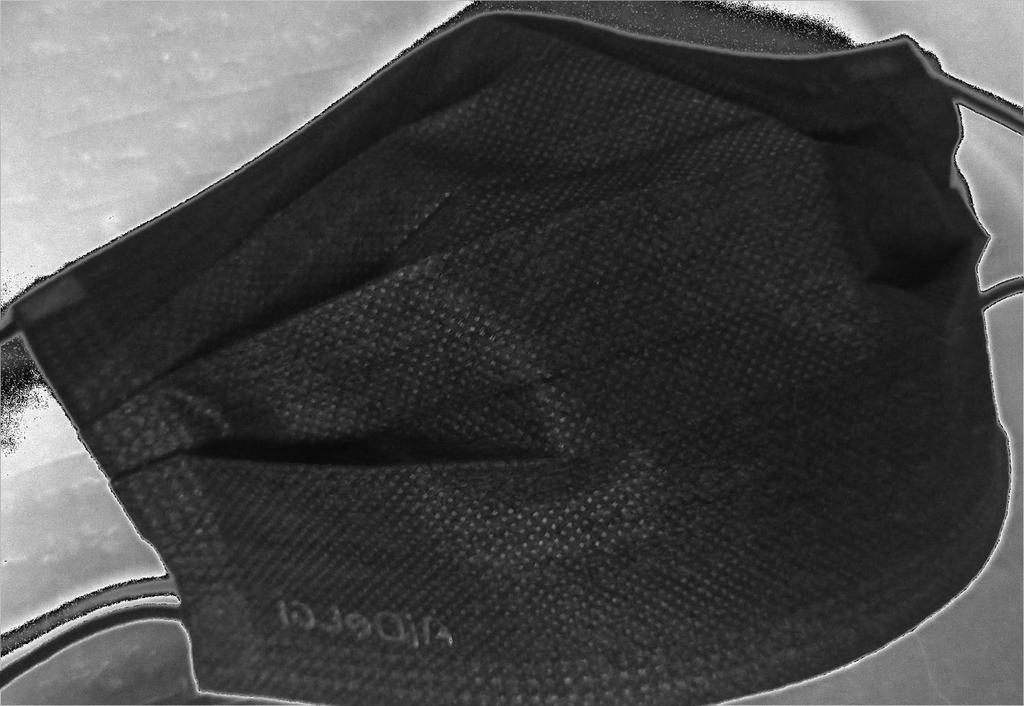Low GSM: (15, 9, 1018, 706)
